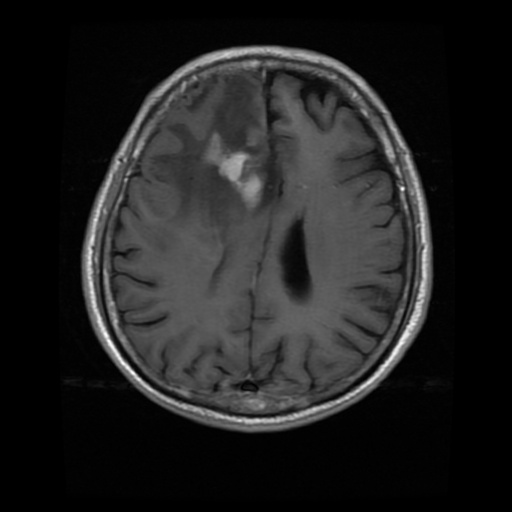glioma: (149, 75, 262, 246)
